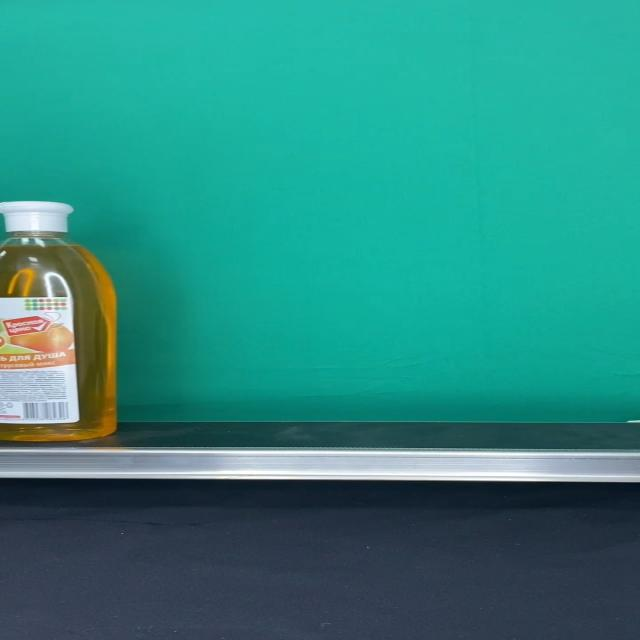Bottle: (0, 202, 117, 442)
Cap: (0, 202, 74, 233)
